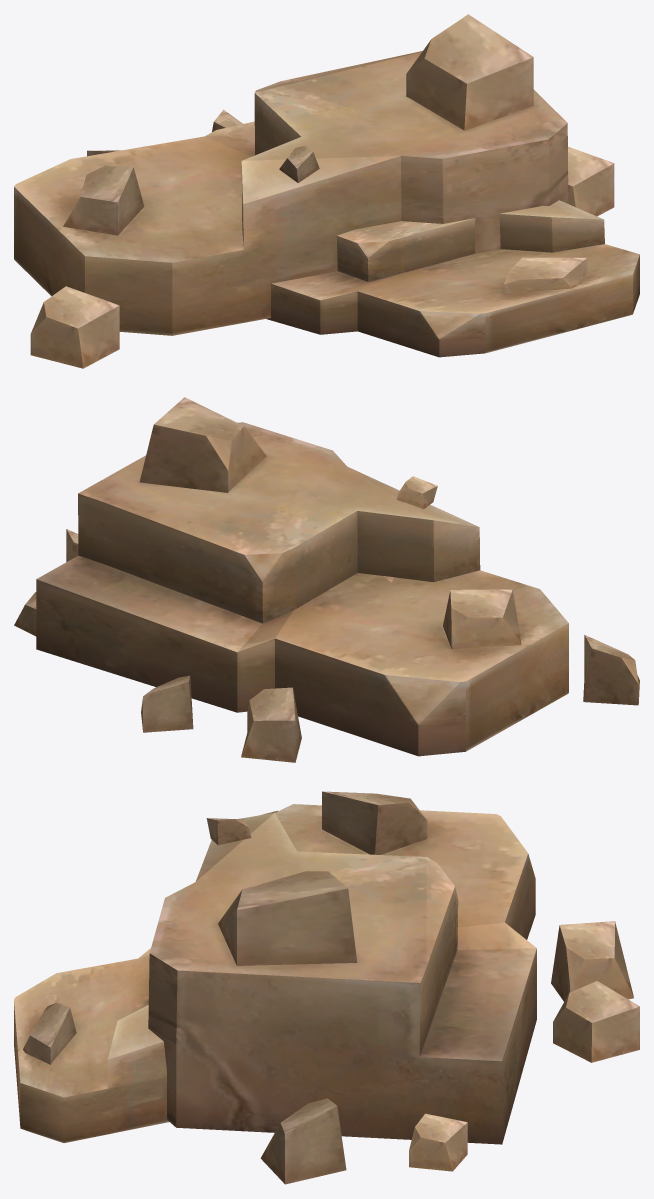
The model's file is furni_0200947.FBX.
3 views of the same model, one above another, from view 1: azimuth 30°, elevation 25°; view 2: azimuth 150°, elevation 25°; view 3: azimuth 270°, elevation 25° (orthographic). The views are drawn at different scales.
Parts seen in each view (by area): view 1: furni_0200947; view 2: furni_0200947; view 3: furni_0200947.
Part boxes in pixels (<box>): furni_0200947: <box>14,14,639,368</box>; furni_0200947: <box>14,397,639,762</box>; furni_0200947: <box>14,791,639,1184</box>.
Bounding box in the file's own units: 295 × 96.38 × 238.
1 material, 1 textured.
